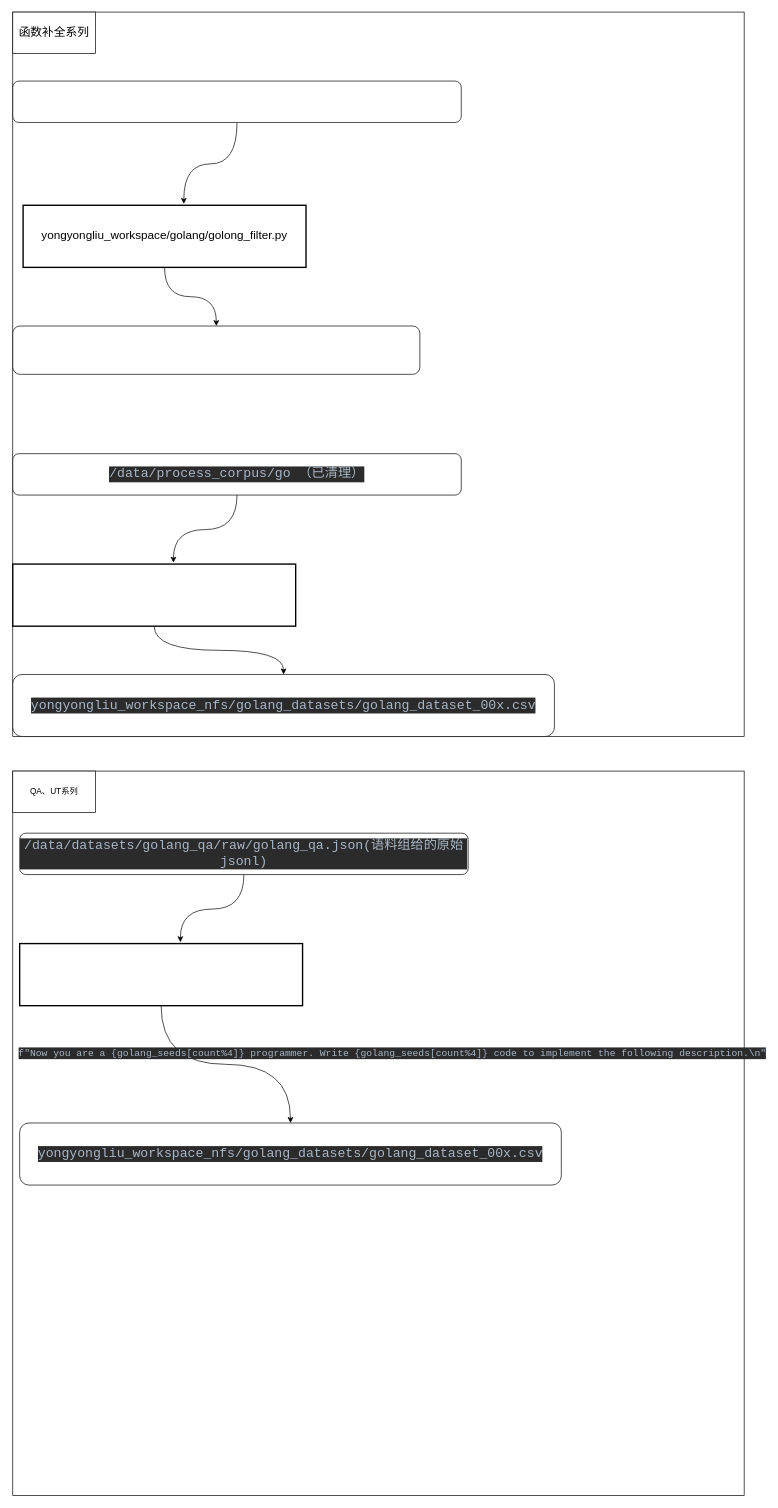
Image size: 778x1508. Some labels were removed from this diagram. Here are the shapes that lost their labels. From the top down, the centre of each, then its label:
At (236,101): "/data/datasets/python_processed_dataset/python_00000.txt".
At (216,349): "/data/datasets/golang_python_mix/python_func_com".
At (154,595): "yongyongliu_workspace/golang/process_golang.py 通过load_dataset将源二进制数据集转为源csv文件".
At (161,974): "yongyongliu_workspace/golang/qa/golang_qa.py 通过load_dataset将源二进制数据集转为源csv文件".
